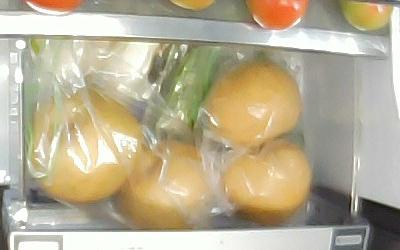pear_vinyl: (31, 87, 141, 202), (117, 139, 212, 231), (208, 60, 302, 144), (221, 138, 311, 225)
